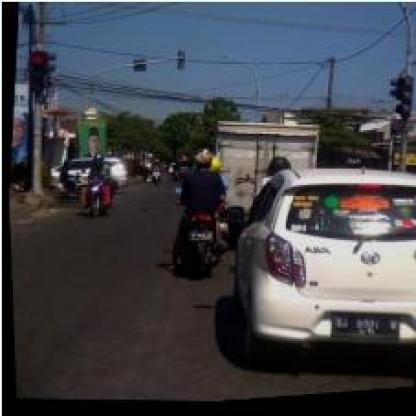red: (26, 46, 46, 92)
